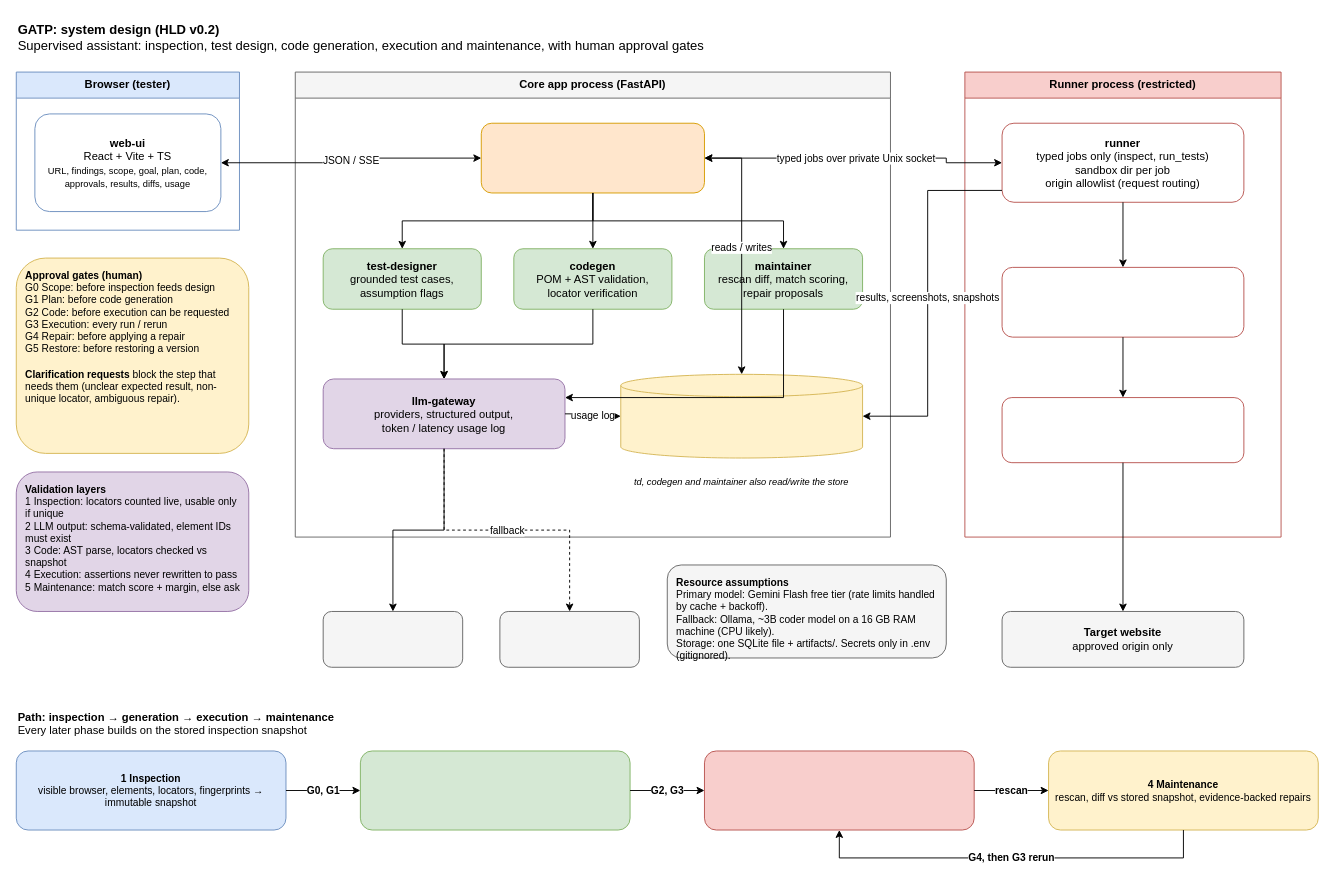
This 1335x882 diagram has some shape labels left out. Each missing label, with the centre of its shape:
"2 Generation grounded test cases, then POM code citing snapshot elements" belongs at pixel 494 790.
"3 Execution approved tests in isolated runner; results map back to element IDs" belongs at pixel 839 790.
"api orchestrator, approval gates, workflow state machine" belongs at pixel 592 157.
"Gemini Flash free tier (primary)" belongs at pixel 392 639.
"inspector DOM + a11y extraction, ranked locators, fingerprints" belongs at pixel 1122 301.
"Ollama local fallback" belongs at pixel 569 639.
"store SQLite + artifacts/ immutable versions" belongs at pixel 741 415.
"Visible Chromium (Playwright)" belongs at pixel 1122 430.
